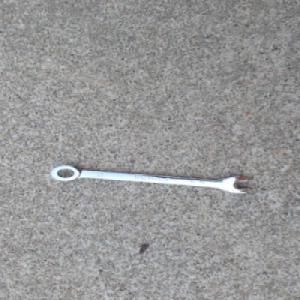Wrench: (49, 163, 251, 193)
